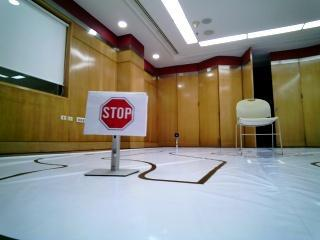stop: (87, 89, 149, 133)
